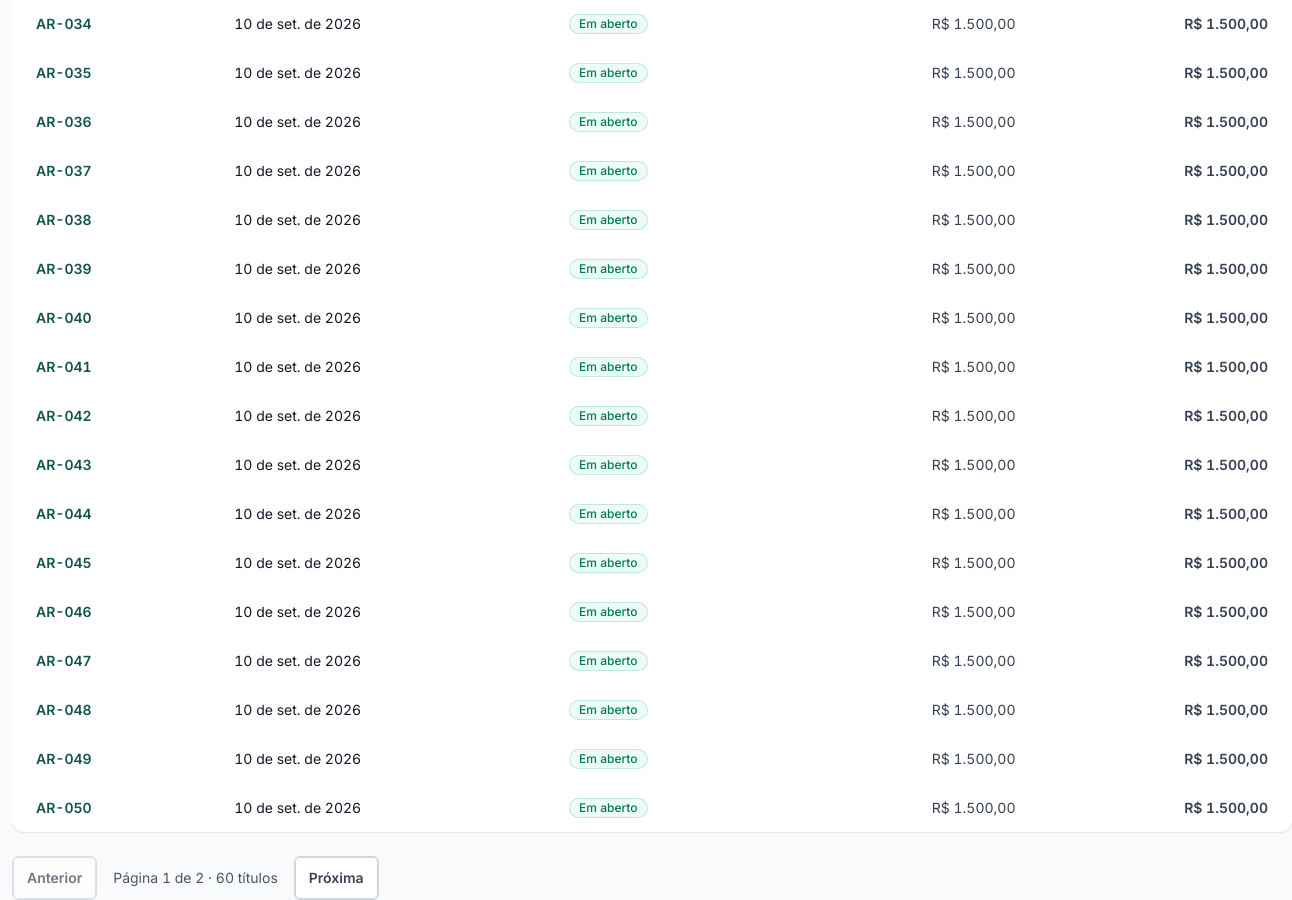
Test: Finance backoffice UI › paginates large tables without inventing extra rows
(page scrolled)
Click the button "Próxima": coordinates (336, 878) [294,856,379,899]
(page scrolled)
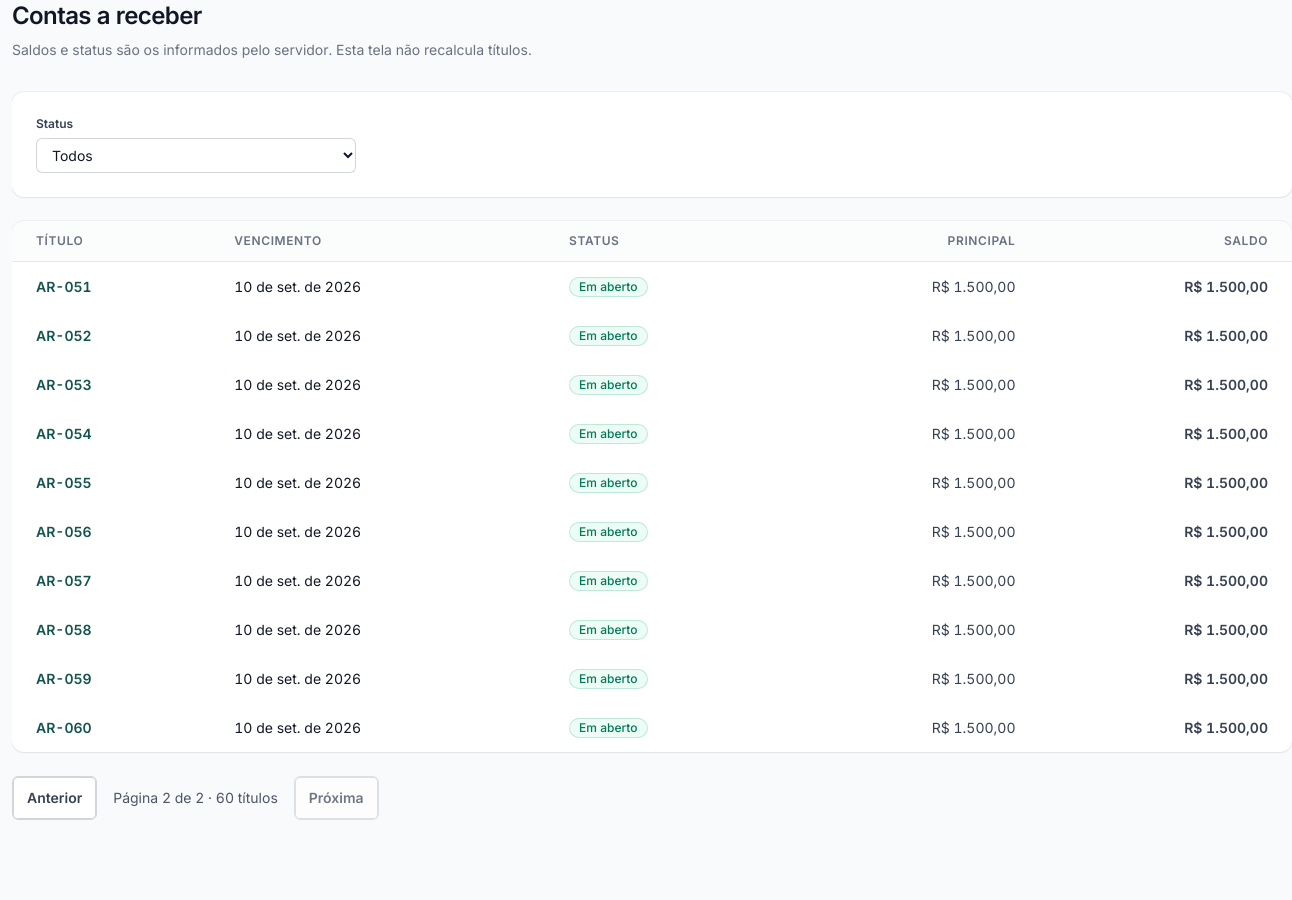
Now the link "AR-051" is shown, box [36,278,92,294]
